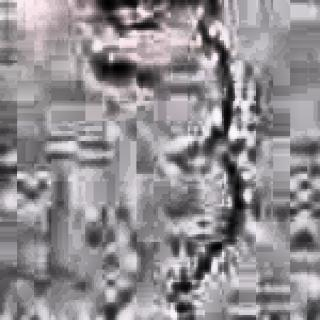crack: (182, 1, 258, 290)
